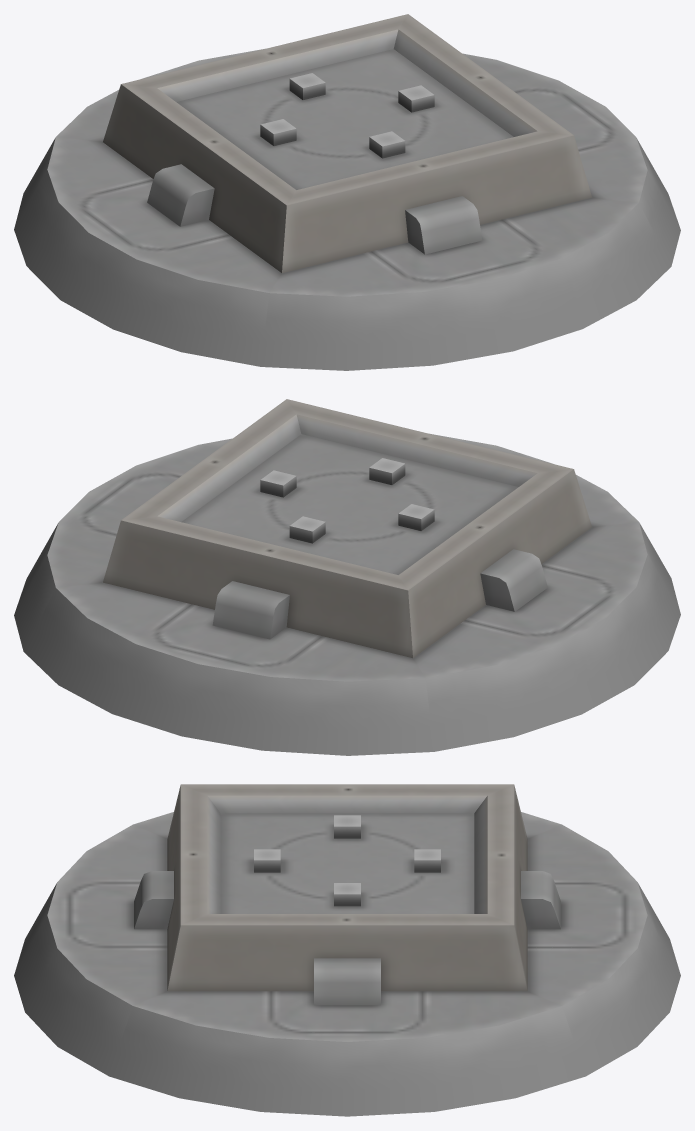
The model's file is Rana_Port_2.obj.
The picture shows the model from 3 angles, top to bottom: view 1: azimuth 30°, elevation 25°; view 2: azimuth 150°, elevation 25°; view 3: azimuth 270°, elevation 25°; orthographic projection.
Parts seen in each view (by area): view 1: Rana_Port_2; view 2: Rana_Port_2; view 3: Rana_Port_2.
Boxes of the visible parts, left/top/right/bottom form: Rana_Port_2: left=14, top=14, right=680, bottom=370; Rana_Port_2: left=14, top=399, right=680, bottom=755; Rana_Port_2: left=14, top=784, right=680, bottom=1116.
Bounding box in the file's own units: 0.625 × 0.125 × 0.625.
